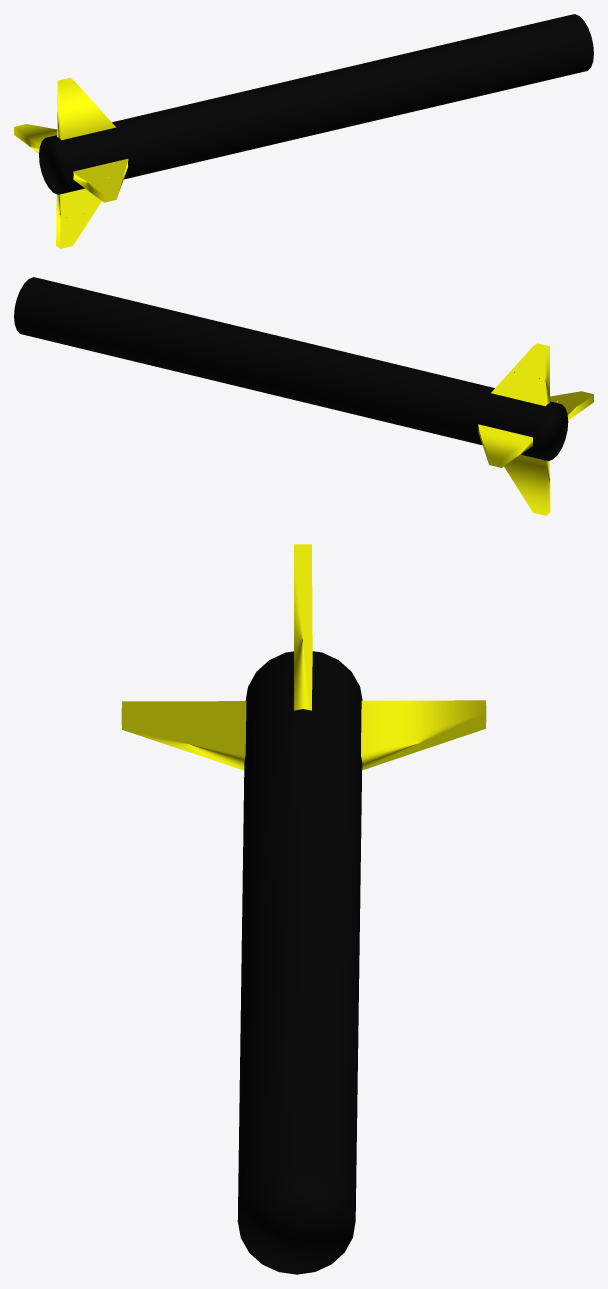
The model's file is missile3.obj.
3 renders of one model, top to bottom at view 1: azimuth 30°, elevation 25°; view 2: azimuth 150°, elevation 25°; view 3: azimuth 270°, elevation 25°, orthographic. The views are drawn at different scales.
Parts seen in each view (by area): view 1: objpCylinder1, objgroup2; view 2: objpCylinder1, objgroup2; view 3: objpCylinder1, objgroup2.
Part boxes in pixels (x1=…): objpCylinder1: x1=39, y1=14, x2=593, y2=194; objgroup2: x1=14, y1=78, x2=128, y2=248; objpCylinder1: x1=14, y1=277, x2=568, y2=461; objgroup2: x1=478, y1=343, x2=593, y2=515; objpCylinder1: x1=237, y1=651, x2=362, y2=1274; objgroup2: x1=121, y1=544, x2=486, y2=770.
Size of the model in its own units: 3.08 by 0.9275 by 0.9275.
